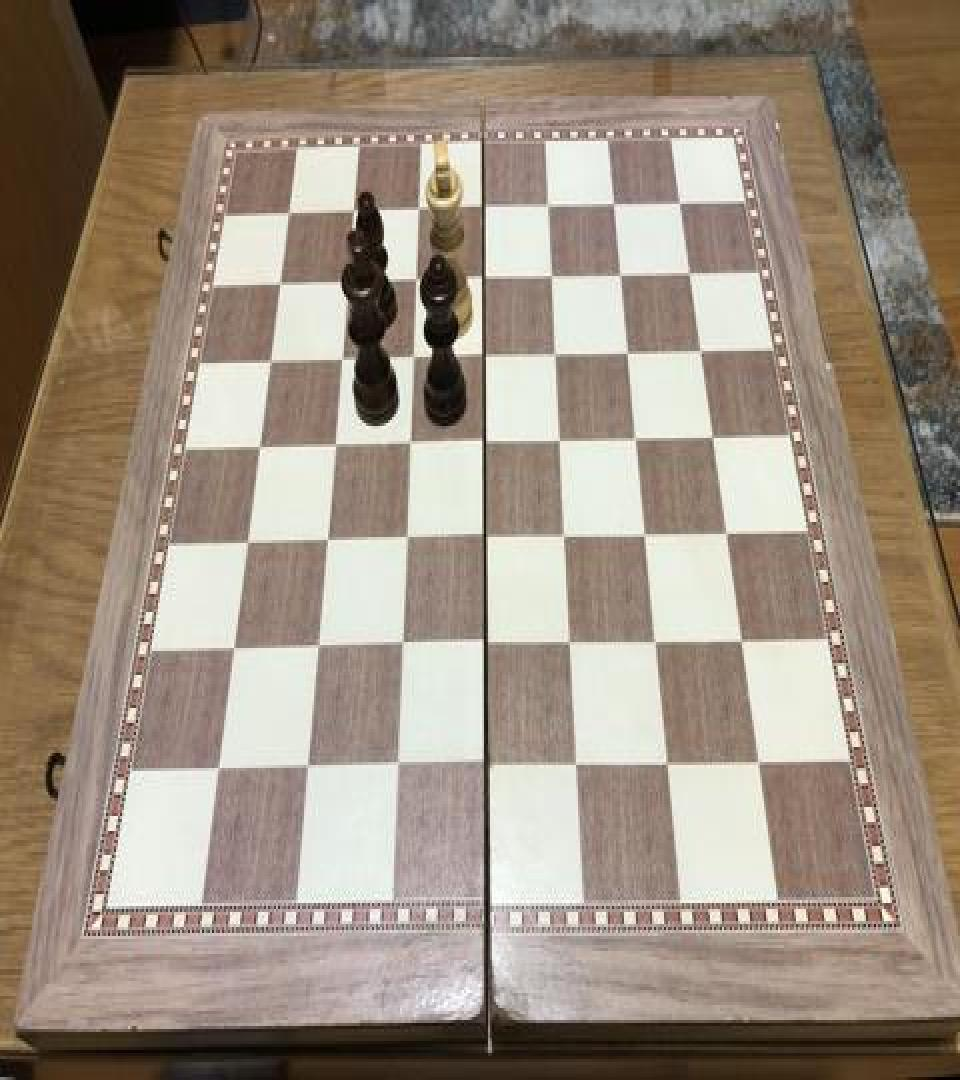xcorner: (475, 520, 499, 557), (644, 625, 668, 662), (560, 625, 584, 662), (224, 631, 248, 668), (388, 748, 412, 785), (666, 186, 690, 222), (471, 189, 495, 225), (406, 190, 430, 226), (341, 192, 365, 228), (277, 192, 301, 228), (676, 256, 700, 292), (608, 258, 632, 294), (404, 261, 428, 297), (336, 262, 360, 298), (268, 264, 292, 300), (688, 334, 712, 370), (616, 336, 640, 372), (544, 338, 568, 374), (473, 338, 497, 374), (402, 339, 426, 375), (330, 340, 354, 376), (259, 342, 283, 378), (700, 422, 724, 458), (624, 422, 648, 458), (549, 423, 573, 459), (474, 424, 498, 460), (399, 426, 423, 462), (324, 428, 348, 464), (248, 428, 272, 464), (713, 516, 737, 552), (634, 518, 658, 554), (554, 519, 578, 555), (396, 522, 420, 558), (316, 522, 340, 558), (237, 524, 261, 560), (728, 624, 752, 660), (476, 627, 500, 663), (392, 628, 416, 664), (308, 630, 332, 666), (746, 744, 770, 780), (656, 746, 680, 782), (567, 747, 591, 783), (477, 747, 501, 783), (299, 750, 323, 786), (210, 752, 234, 788), (601, 188, 625, 223), (536, 188, 560, 223), (540, 260, 564, 295), (472, 260, 496, 295)
